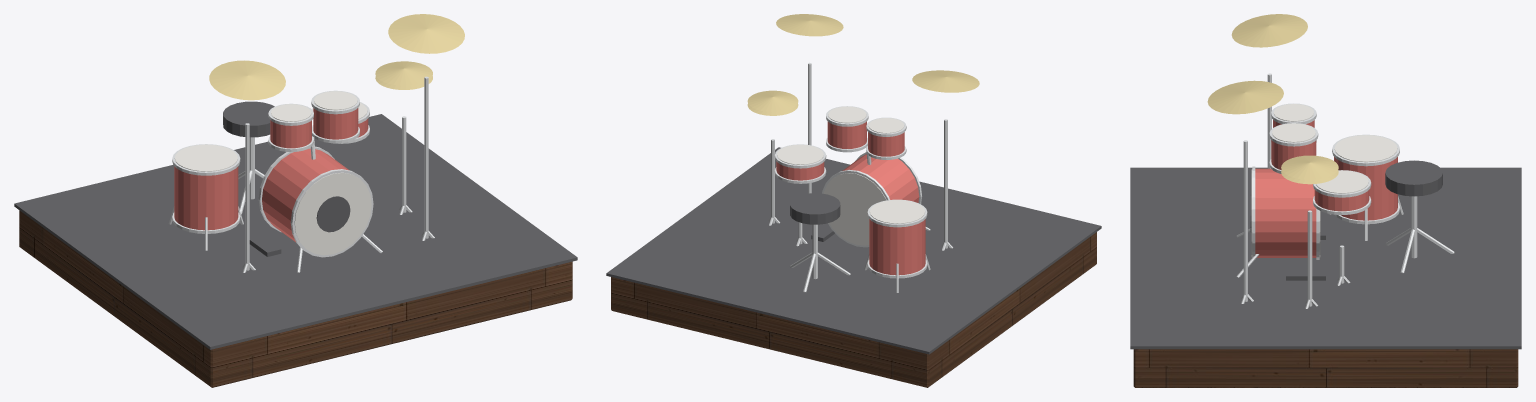
The model's file is drum_kit.glb.
3 views of the same model, side by side, from view 1: azimuth 30°, elevation 25°; view 2: azimuth 150°, elevation 25°; view 3: azimuth 270°, elevation 25° (orthographic). The views are drawn at different scales.
Visible parts, largest first — view 1: drum_kit_dark, drum_kit_dkwood, drum_kit_flag_r, drum_kit_paper, drum_kit_chrome, drum_kit_cymbal; view 2: drum_kit_dark, drum_kit_dkwood, drum_kit_flag_r, drum_kit_paper, drum_kit_chrome, drum_kit_cymbal; view 3: drum_kit_dark, drum_kit_dkwood, drum_kit_flag_r, drum_kit_chrome, drum_kit_cymbal, drum_kit_paper.
Boxes of the visible parts, x1,y1,x2,y2 form: drum_kit_dark: (14, 101, 577, 349); drum_kit_dkwood: (19, 210, 572, 387); drum_kit_flag_r: (174, 108, 368, 242); drum_kit_paper: (174, 91, 371, 255); drum_kit_chrome: (168, 76, 434, 272); drum_kit_cymbal: (209, 14, 464, 100); drum_kit_dark: (606, 147, 1101, 354); drum_kit_dkwood: (611, 232, 1096, 387); drum_kit_flag_r: (776, 121, 925, 275); drum_kit_paper: (777, 106, 924, 245); drum_kit_chrome: (768, 62, 952, 292); drum_kit_cymbal: (747, 14, 979, 115); drum_kit_dark: (1130, 160, 1521, 349); drum_kit_dkwood: (1133, 349, 1518, 387); drum_kit_flag_r: (1255, 120, 1397, 257); drum_kit_chrome: (1236, 73, 1454, 308); drum_kit_cymbal: (1207, 14, 1338, 184); drum_kit_paper: (1251, 104, 1397, 256).
Size of the model in its own units: 2.64 by 1.74 by 2.44.
6 materials, 1 textured.
